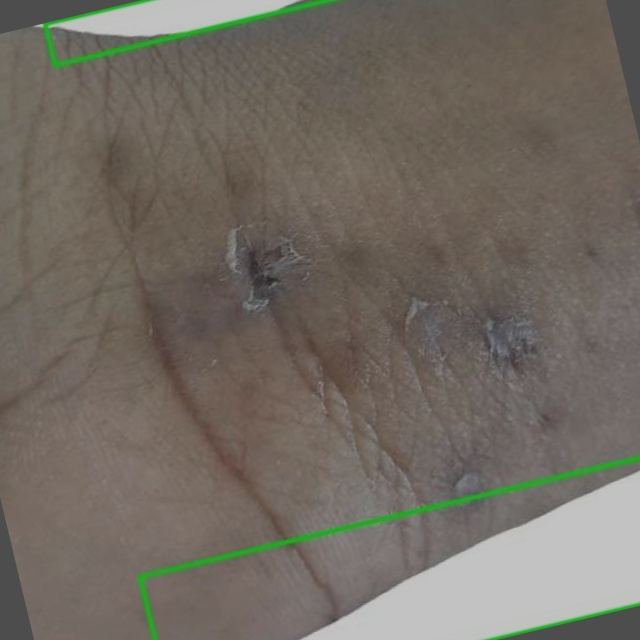Scabies: (138, 457, 639, 639)
